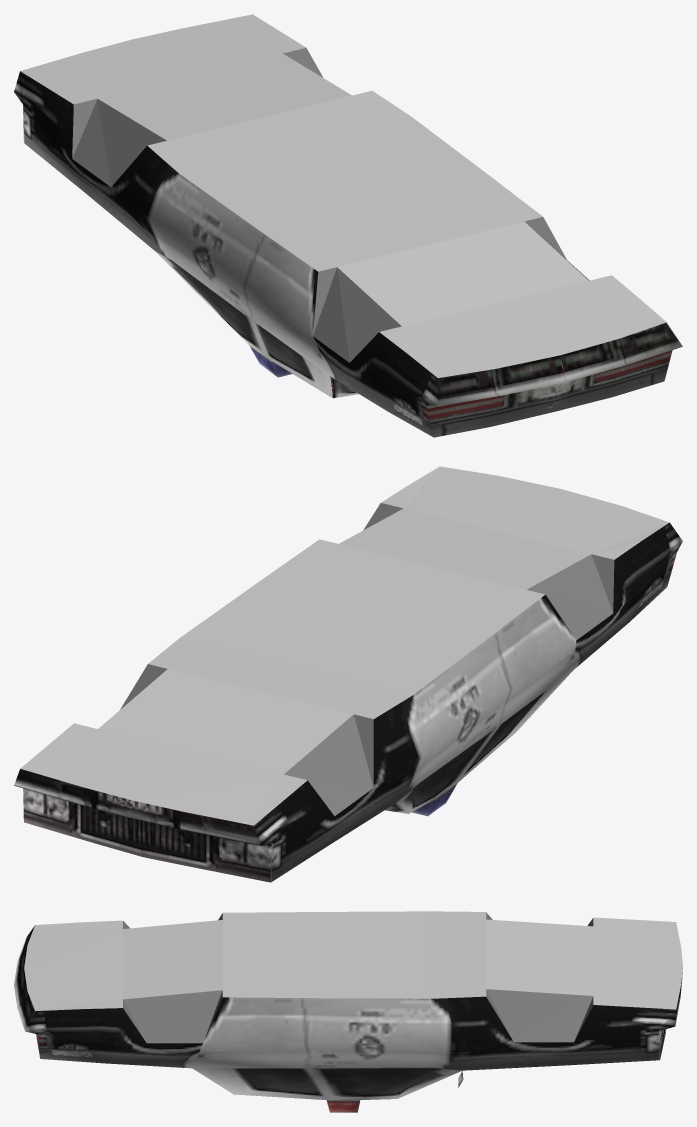
File: VEGAS_model0_clean.obj
3 views of the same model, one above another, from view 1: azimuth 30°, elevation 25°; view 2: azimuth 150°, elevation 25°; view 3: azimuth 270°, elevation 25° (orthographic). The views are drawn at different scales.
Parts seen in each view (by area): view 1: VEGAS_model0_clean; view 2: VEGAS_model0_clean; view 3: VEGAS_model0_clean.
Boxes of the visible parts, x1,y1,x2,y2 form: VEGAS_model0_clean: (14,14,682,437); VEGAS_model0_clean: (14,466,682,882); VEGAS_model0_clean: (14,911,682,1112).
Bounding box in the file's own units: 290 × 166 × 792.
